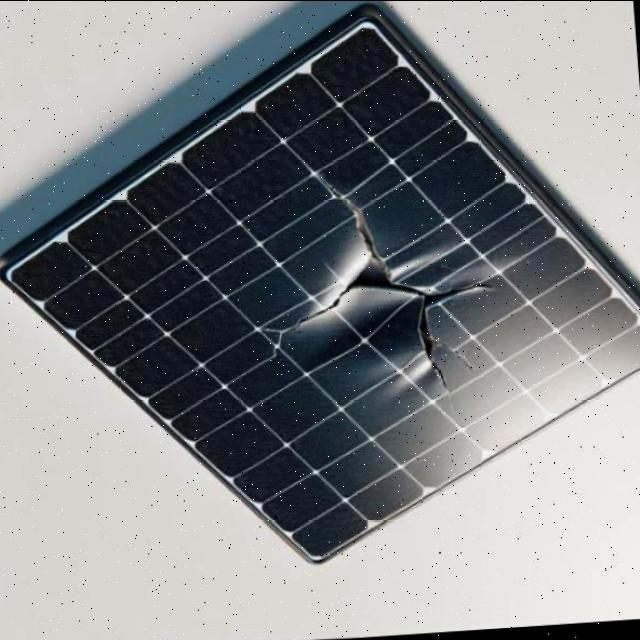Anomaly Solar Panel: (9, 0, 640, 640)
Structural Damage: (413, 285, 499, 421), (264, 291, 369, 362), (320, 168, 392, 263), (352, 256, 433, 332)
